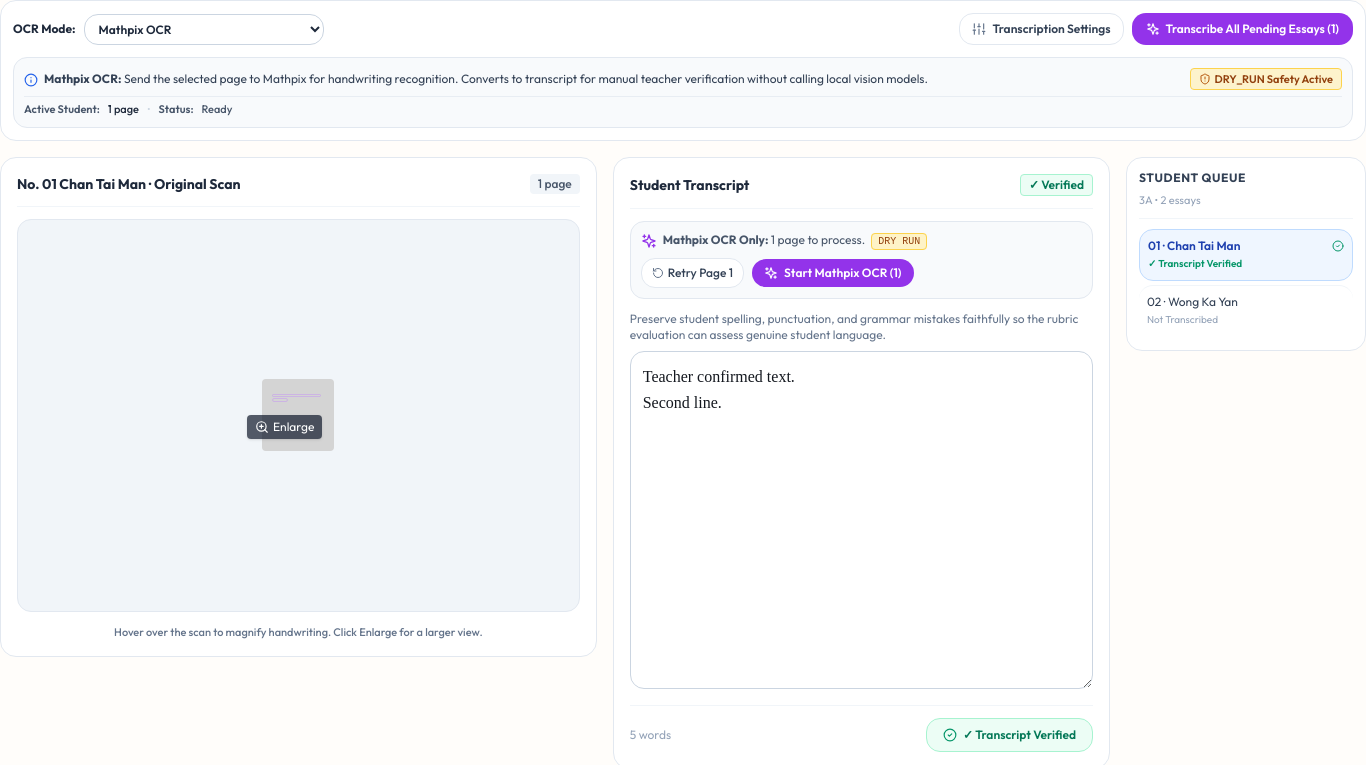
Test: Stage 4 Scan Magnifier & Faithful Line-Break Preservation › D. TranscriptVerificationPanel Live Magnifier & Text Verification › renders line bounding boxes and synchronizes click-to-highlight with transcript lines
Later steps or results of the test are not shown.
Expected: the element titled "Line 2: Second line short." is shown, [272, 398, 288, 402]
Clicking line 1 box highlights it and shows active highlight bar
Click the element titled "Line 1: First line with box." at point(296, 395), box [272, 394, 321, 397]
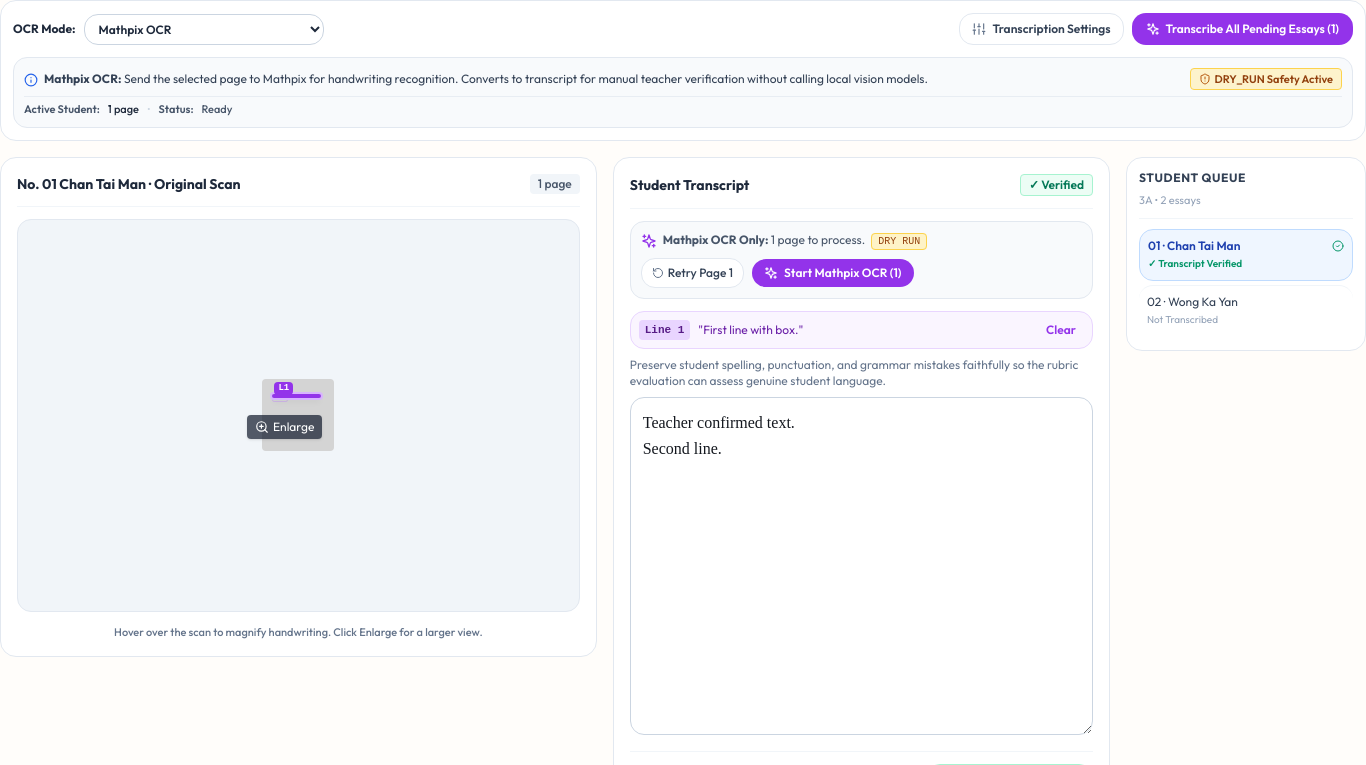
Result: the text "Line 1" is shown at [639, 320, 690, 340]
Result: the text "\"First line with box.\"" is shown at [698, 322, 803, 338]
Clicking line 2 box switches highlight to Line 2
Click the element titled "Line 2: Second line short." at point(280, 400), box [272, 398, 288, 402]
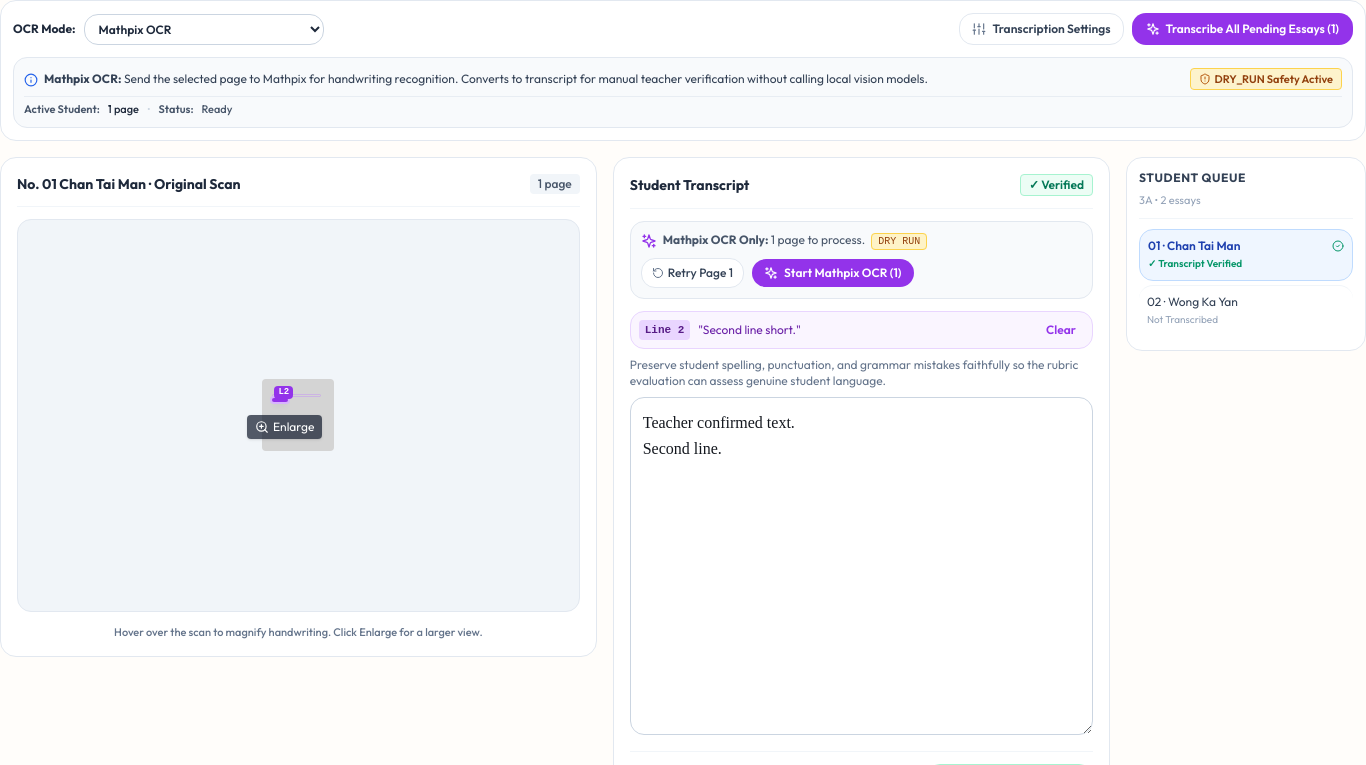
Result: the text "Line 2" is shown at [639, 320, 690, 340]
Result: the text "\"Second line short.\"" is shown at [698, 322, 801, 338]
Clear button clears active highlight
Click the button "Clear" at point(1061, 330), box [1038, 320, 1084, 340]
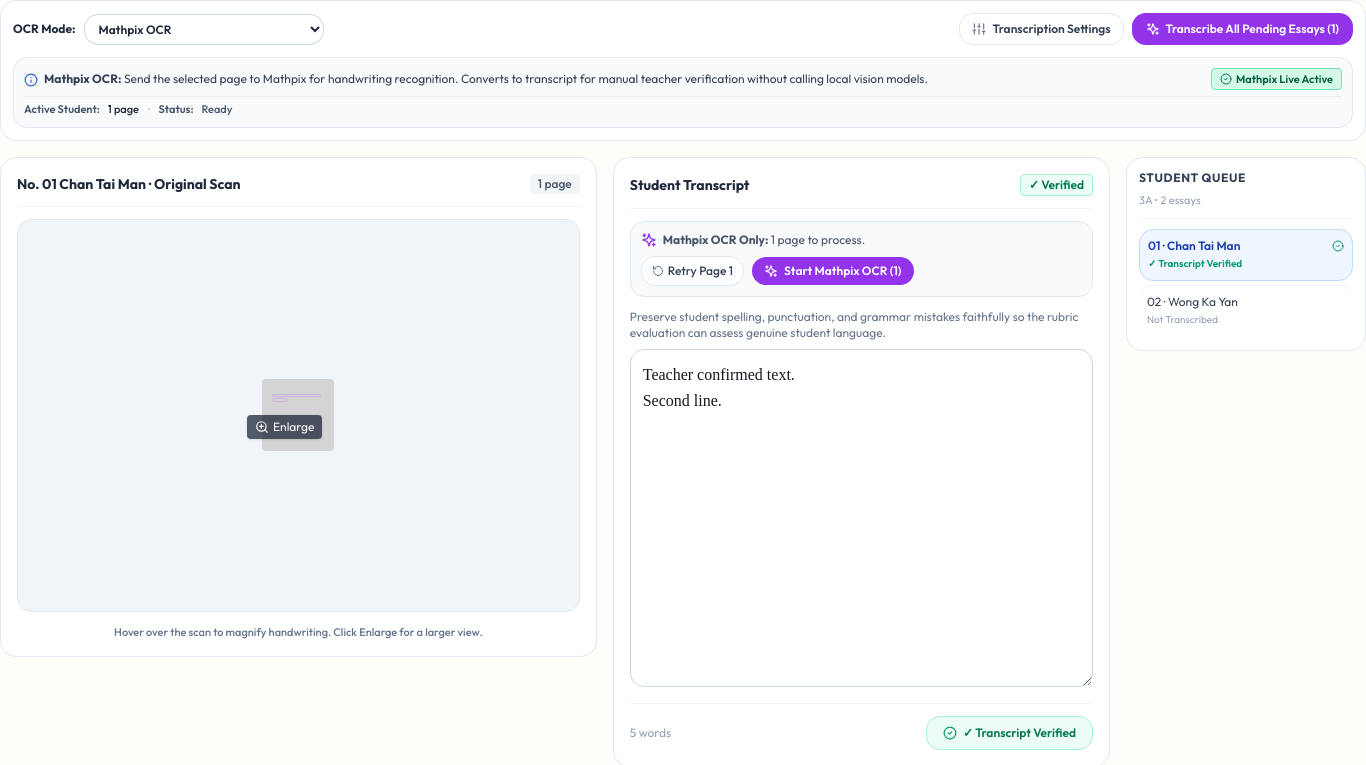
Result: the text "\"Second line short.\"" is gone
